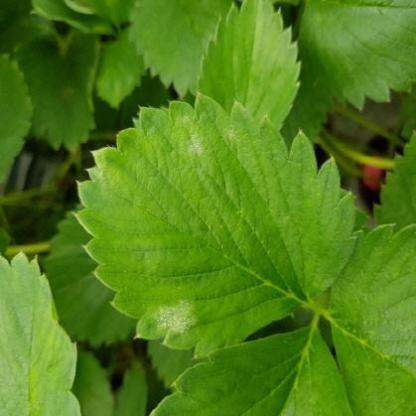Strawberry_Powdery_Mildew_Leaf: (73, 92, 358, 360)
